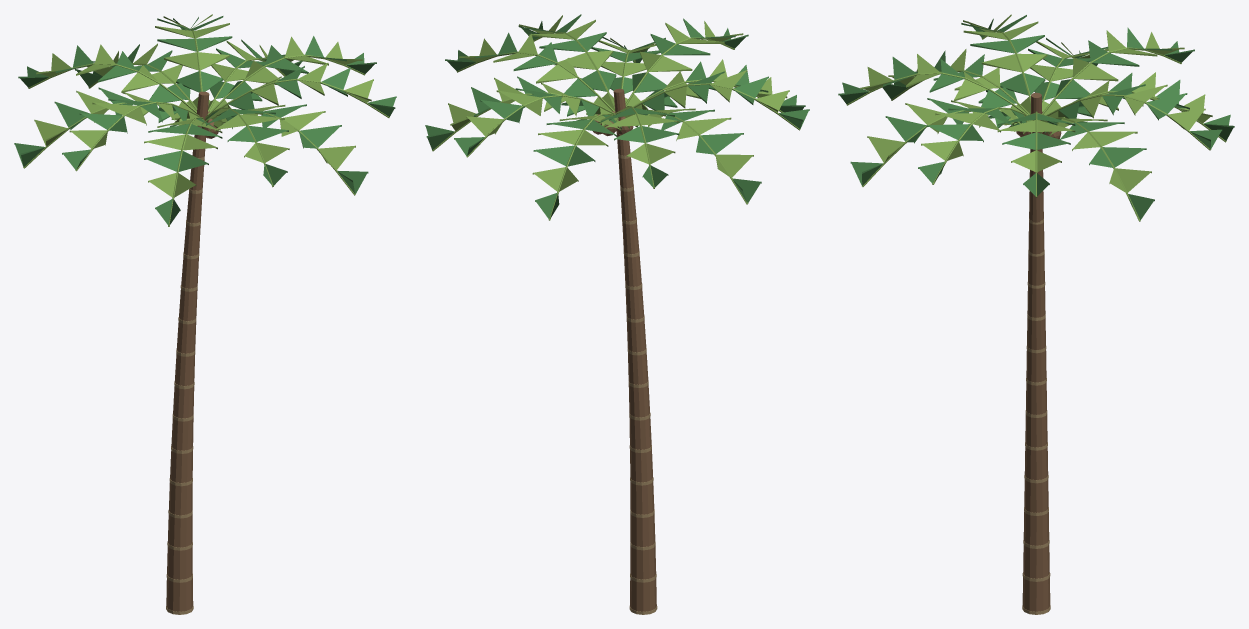
The model's file is tree_palm.glb.
The picture shows the model from 3 angles, left to right: view 1: azimuth 30°, elevation 25°; view 2: azimuth 150°, elevation 25°; view 3: azimuth 270°, elevation 25°; orthographic projection. The views are drawn at different scales.
Visible parts, largest first — view 1: tree_palm; view 2: tree_palm; view 3: tree_palm.
Part boxes in pixels (box(x1,y1,x2,y2)): tree_palm: box(14, 14, 396, 614); tree_palm: box(425, 14, 809, 614); tree_palm: box(838, 14, 1234, 614).
Bounding box in the file's own units: 6.76 × 10.34 × 6.83.
